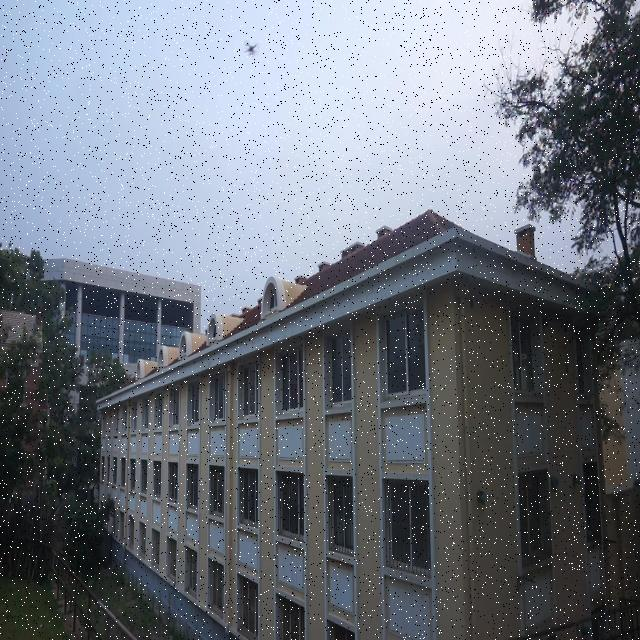UAV: (243, 40, 260, 57)
